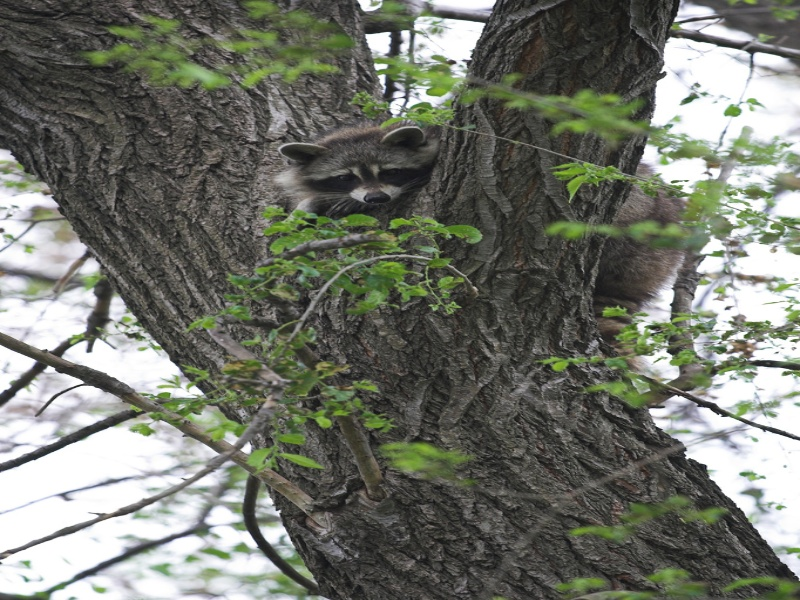raccoon: (260, 101, 694, 366)
